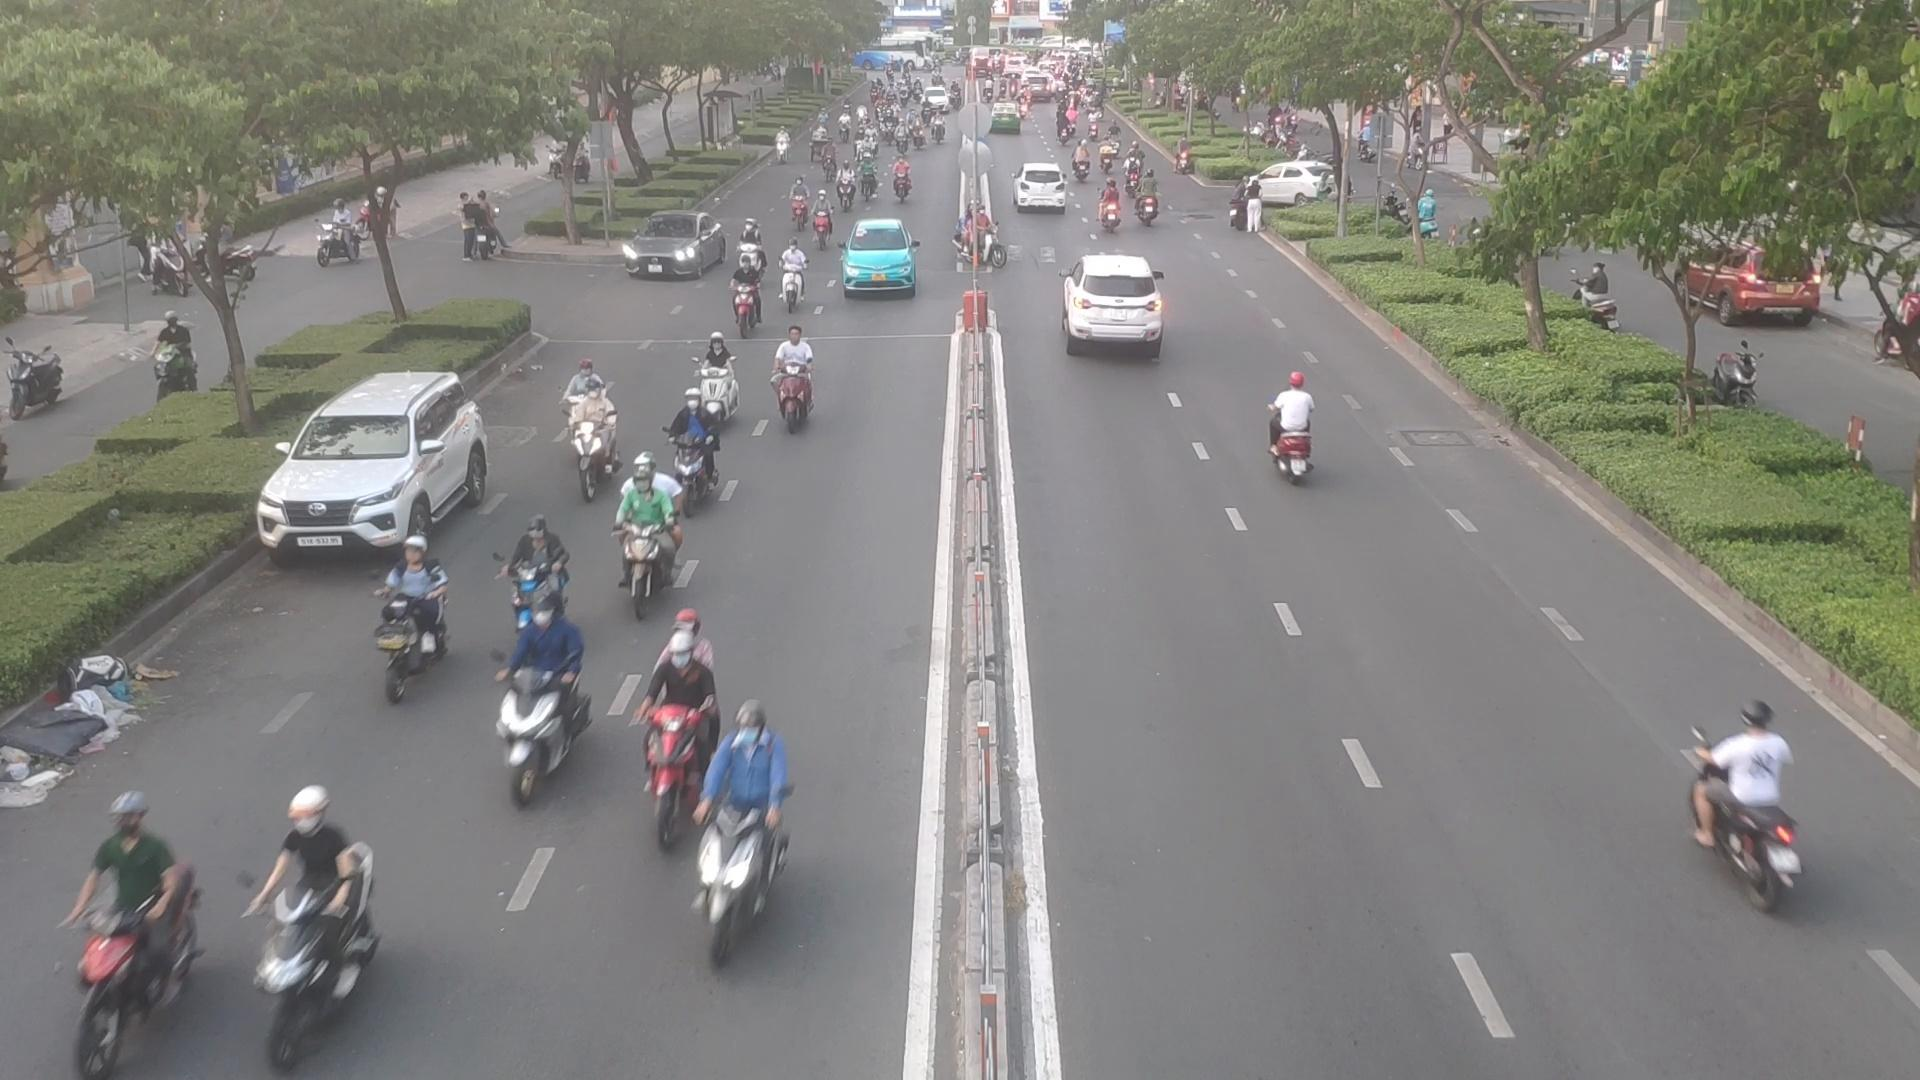car: (280, 359, 473, 567), (1060, 256, 1163, 351), (621, 215, 731, 284), (839, 222, 915, 301), (1244, 160, 1338, 212), (1015, 164, 1073, 212)
motorbike: (61, 807, 203, 1077), (247, 791, 378, 1080), (682, 717, 816, 948), (1693, 667, 1805, 909), (640, 617, 715, 823), (496, 666, 597, 803), (378, 541, 452, 698), (485, 533, 571, 655), (613, 471, 670, 603), (1266, 372, 1317, 488), (578, 380, 625, 497), (658, 402, 720, 487), (698, 316, 749, 413), (786, 322, 824, 422), (723, 256, 764, 330), (555, 361, 589, 430), (774, 243, 810, 305), (1098, 181, 1129, 237), (785, 171, 806, 231), (1141, 167, 1162, 225), (742, 220, 764, 274), (889, 157, 910, 204), (818, 142, 837, 191), (815, 196, 833, 245), (837, 160, 855, 204), (864, 154, 880, 202), (1073, 144, 1093, 179), (1124, 158, 1139, 196), (1096, 140, 1113, 171)
